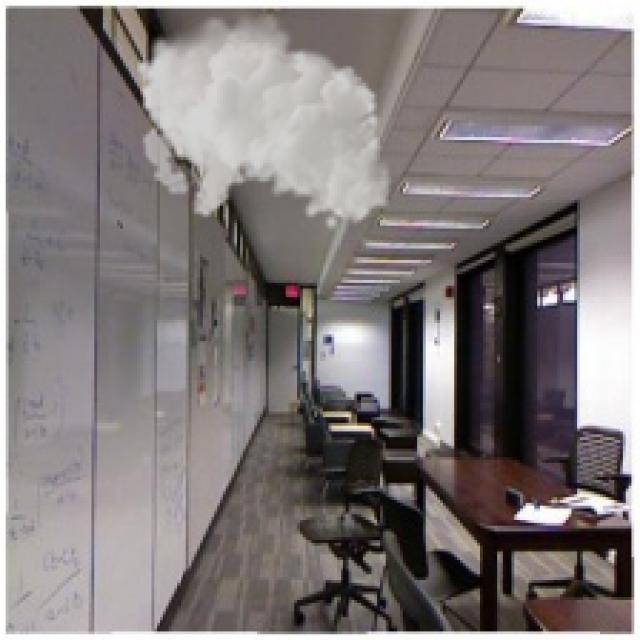smoke: (134, 6, 392, 231)
